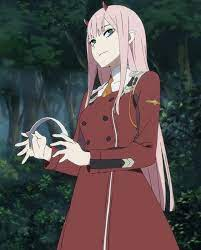zeroTwo: (77, 1, 150, 69)
